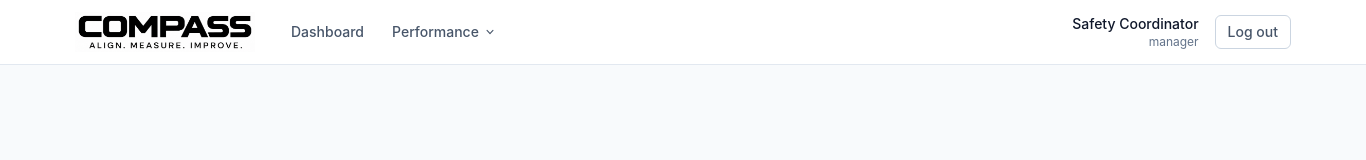
Test: a user with only safety access sees a single Performance group and no scheduling links
Click the button "Performance" at (444, 32), box [380,14,509,50]
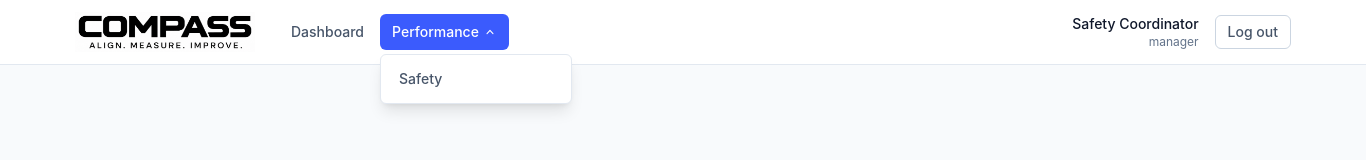
Expected: the link "Safety" is shown, [399,70,442,87]
